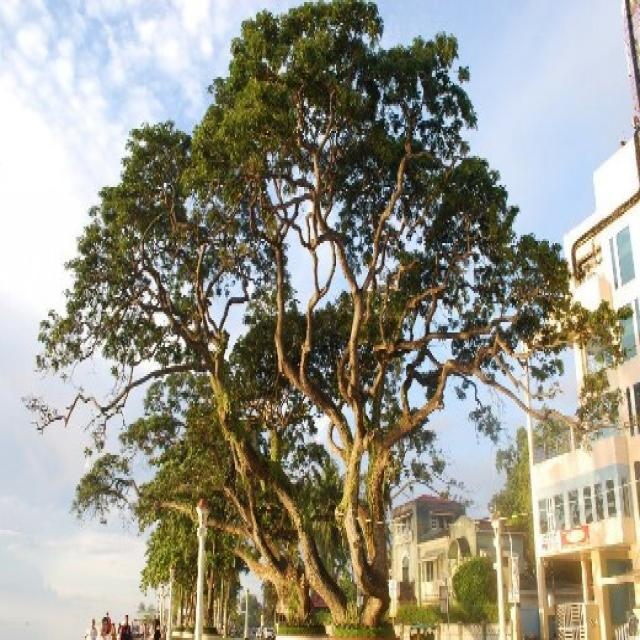Acacia: (36, 8, 579, 613)
